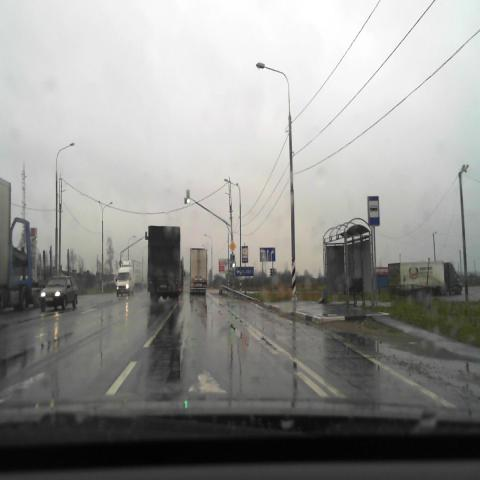5_16: (367, 196, 380, 227)
